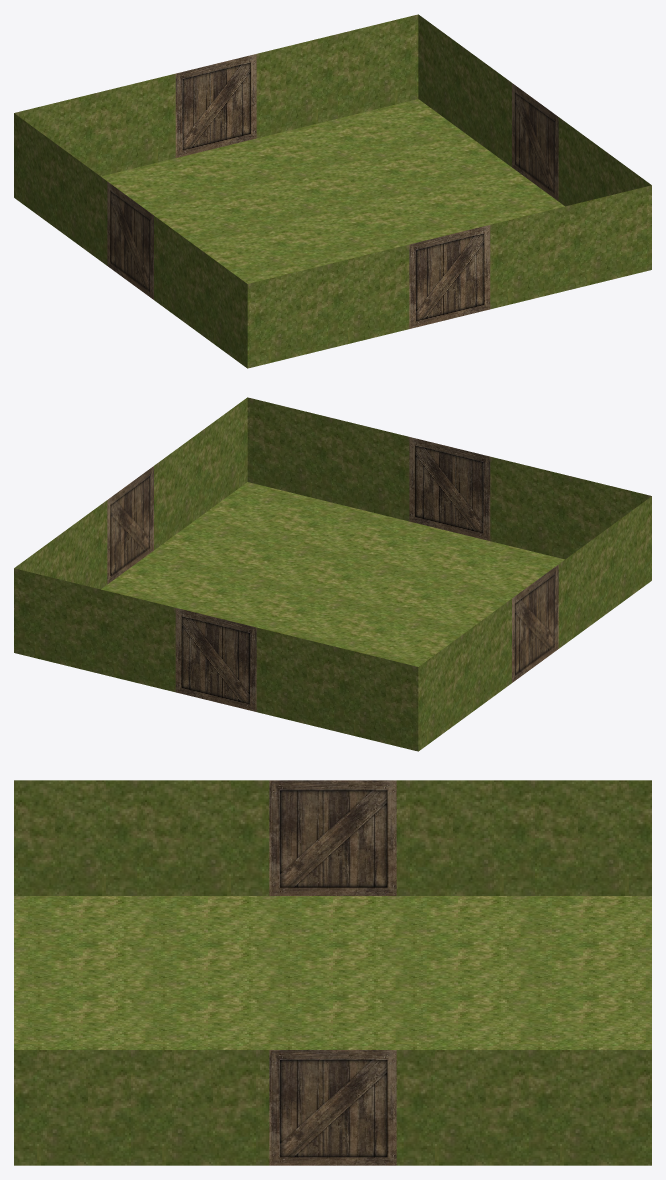
The model's file is map.fbx.
The picture shows the model from 3 angles, top to bottom: view 1: azimuth 30°, elevation 25°; view 2: azimuth 150°, elevation 25°; view 3: azimuth 270°, elevation 25°; orthographic projection. The views are drawn at different scales.
Parts seen in each view (by area): view 1: walls, doors; view 2: walls, doors; view 3: walls, doors.
Boxes of the visible parts, x1,y1,x2,y2 form: walls: (14,14,651,368); doors: (107,54,558,328); walls: (14,397,651,751); doors: (107,437,558,711); walls: (14,780,651,1165); doors: (269,780,396,1165).
Size of the model in its own units: 2000 by 400 by 2000.
